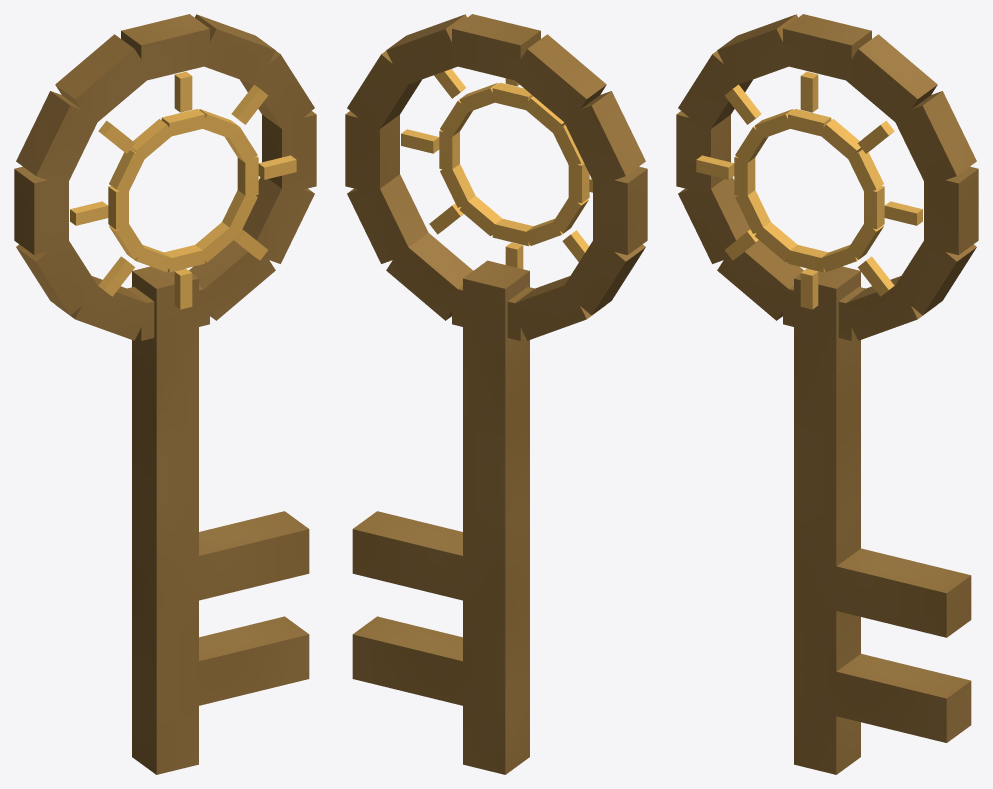
Rendered from key_sun.obj.
3 renders of one model, left to right at view 1: azimuth 30°, elevation 25°; view 2: azimuth 150°, elevation 25°; view 3: azimuth 330°, elevation 25°, orthographic.
Visible parts, largest first — view 1: key_sun; view 2: key_sun; view 3: key_sun.
Part boxes in pixels (left/top/right/bottom): key_sun: left=14, top=14, right=316, bottom=774; key_sun: left=345, top=14, right=647, bottom=774; key_sun: left=676, top=14, right=978, bottom=774.
Size of the model in its own units: 0.365 by 0.9025 by 0.076.
Materials: 2 (2 with a texture image).
